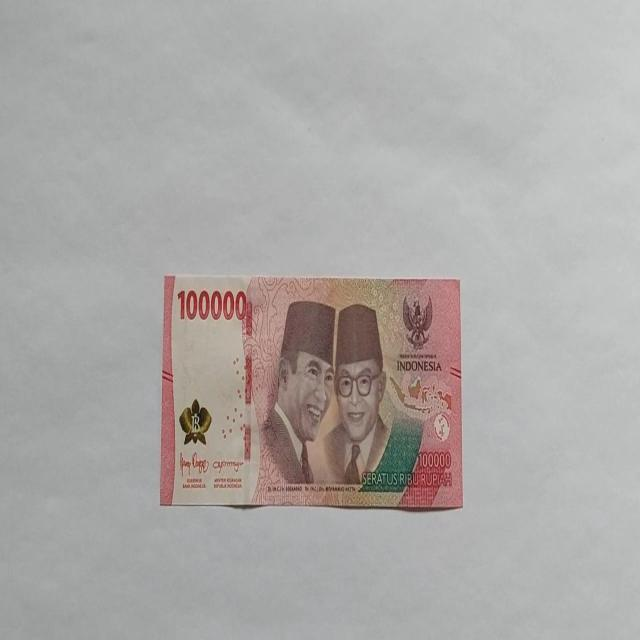Kertas: (159, 273, 463, 510), (176, 285, 248, 323)
